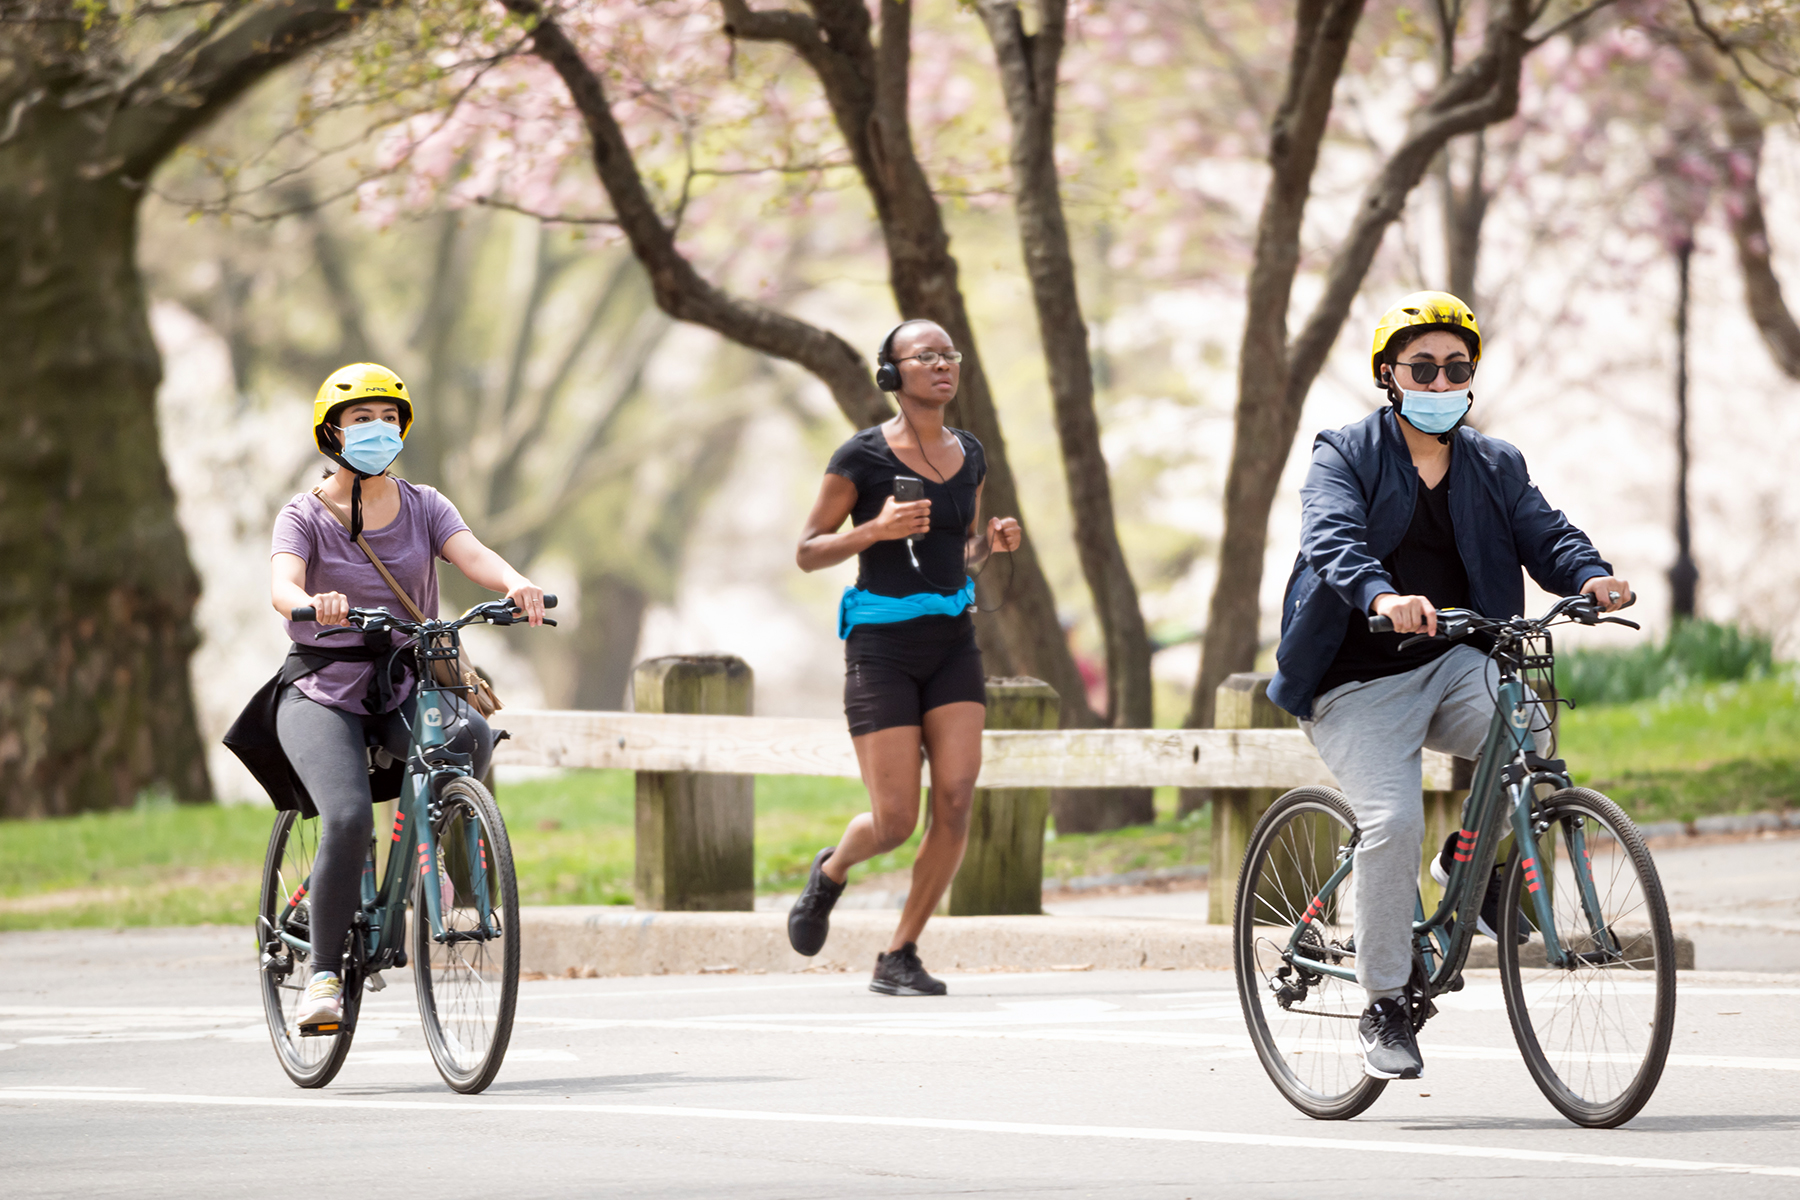person: (805, 316, 1015, 1001)
